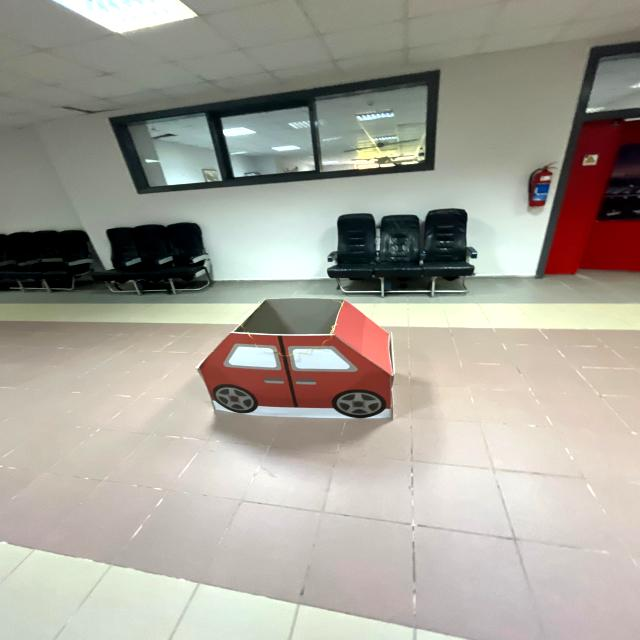red_car: (185, 294, 425, 437)
